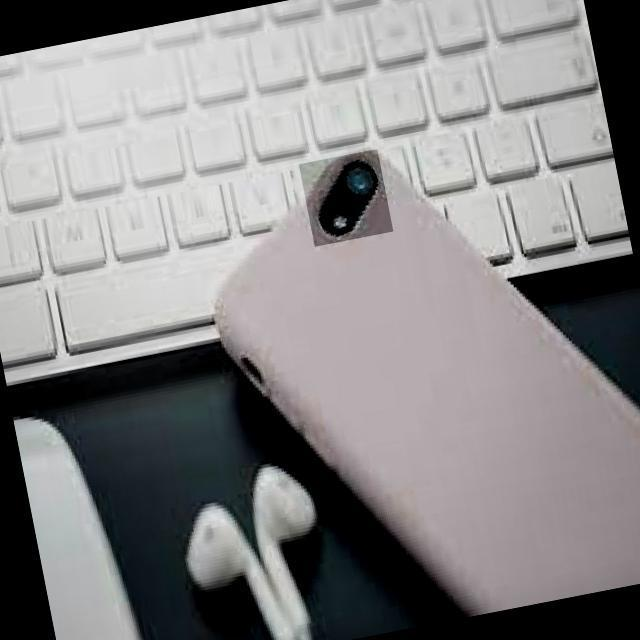lens: (318, 158, 378, 239)
phone: (208, 150, 640, 640)
